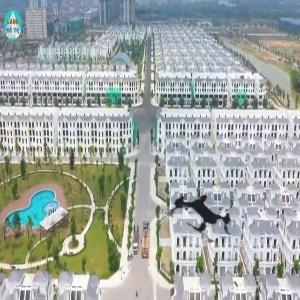drone: (154, 164, 258, 268)
